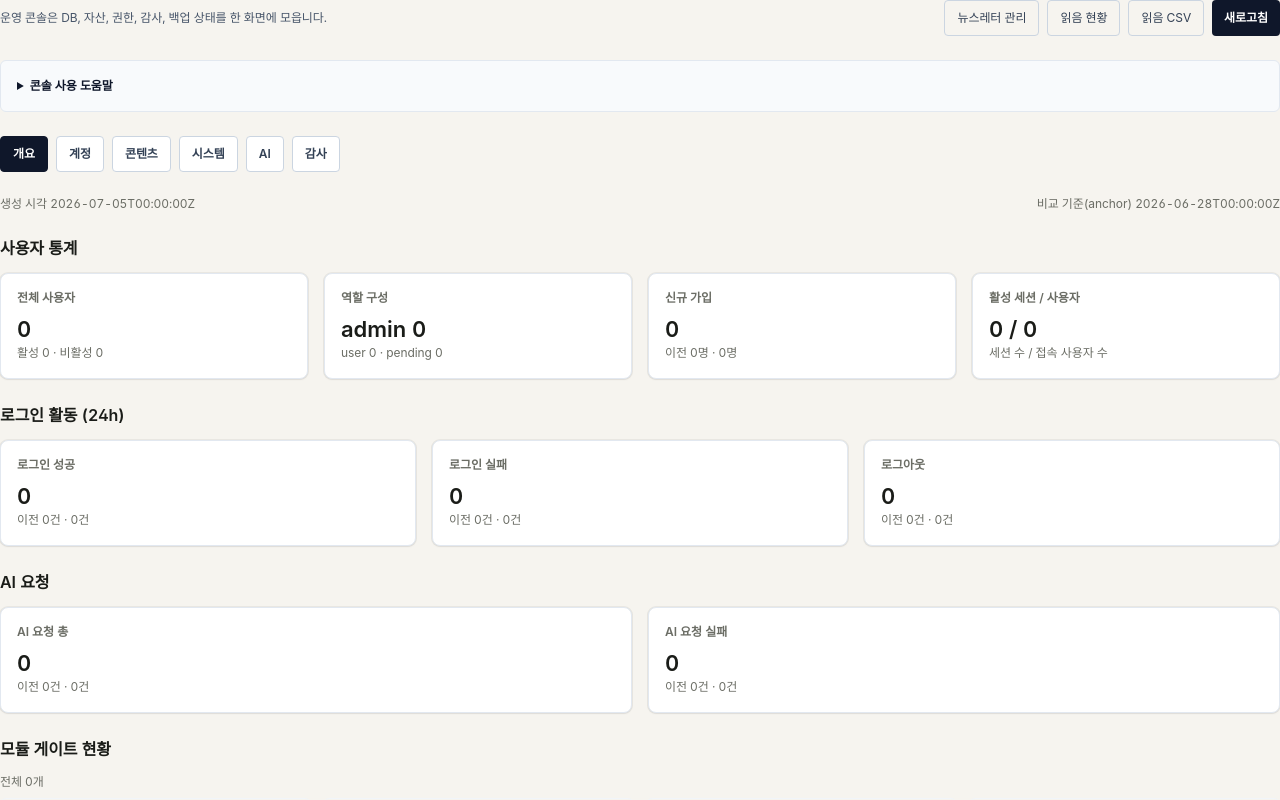
it: 세션 tab paginates login events and search resets back to page 1
The width and height of the screenshot is (1280, 800).
Click the tab "계정" at (80, 154), box [56,136,104,172]
(page scrolled)
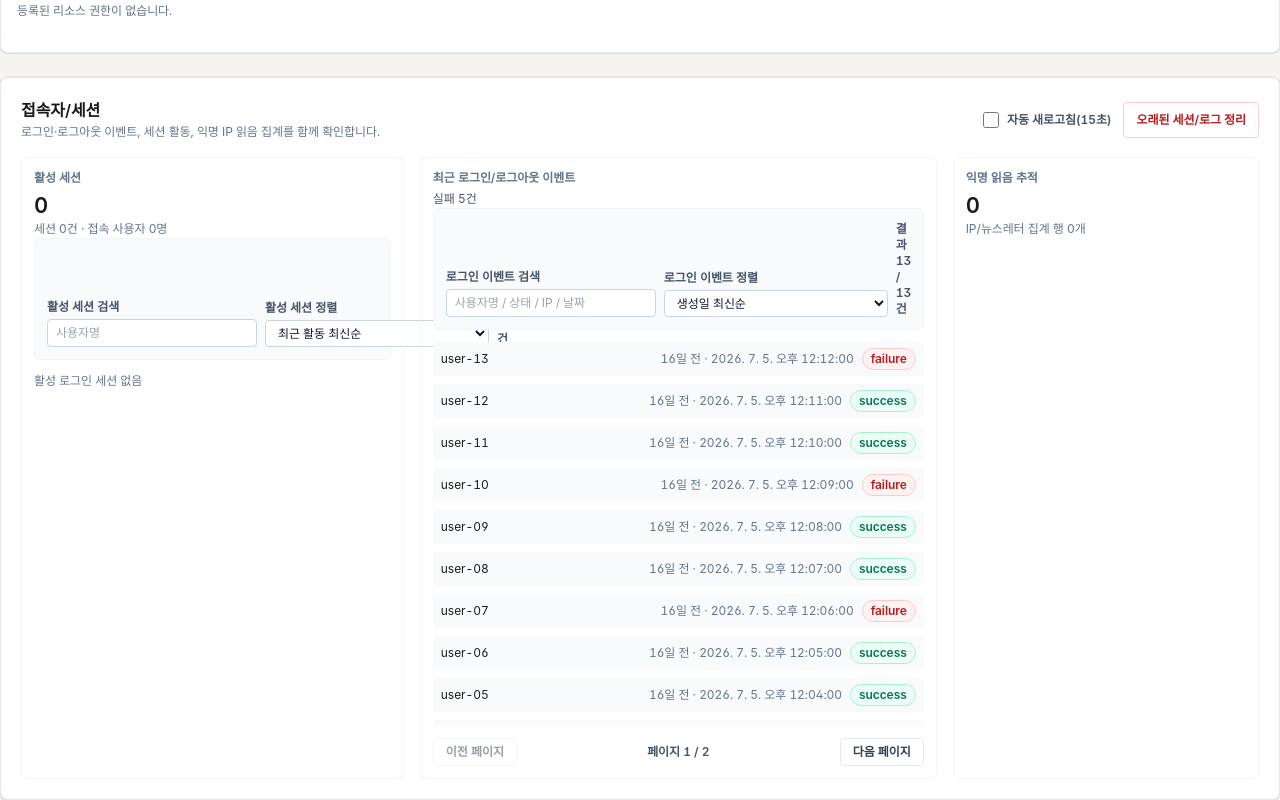
Expected: the heading "접속자/세션" is shown, [21,100,100,120]
Expected: the text "페이지 1 / 2" is shown, [647,744,709,760]
Expected: the text "user-13" is shown, [441,351,489,366]
Click the button "다음 페이지" at (882, 752), box [840,738,924,766]
(page scrolled)
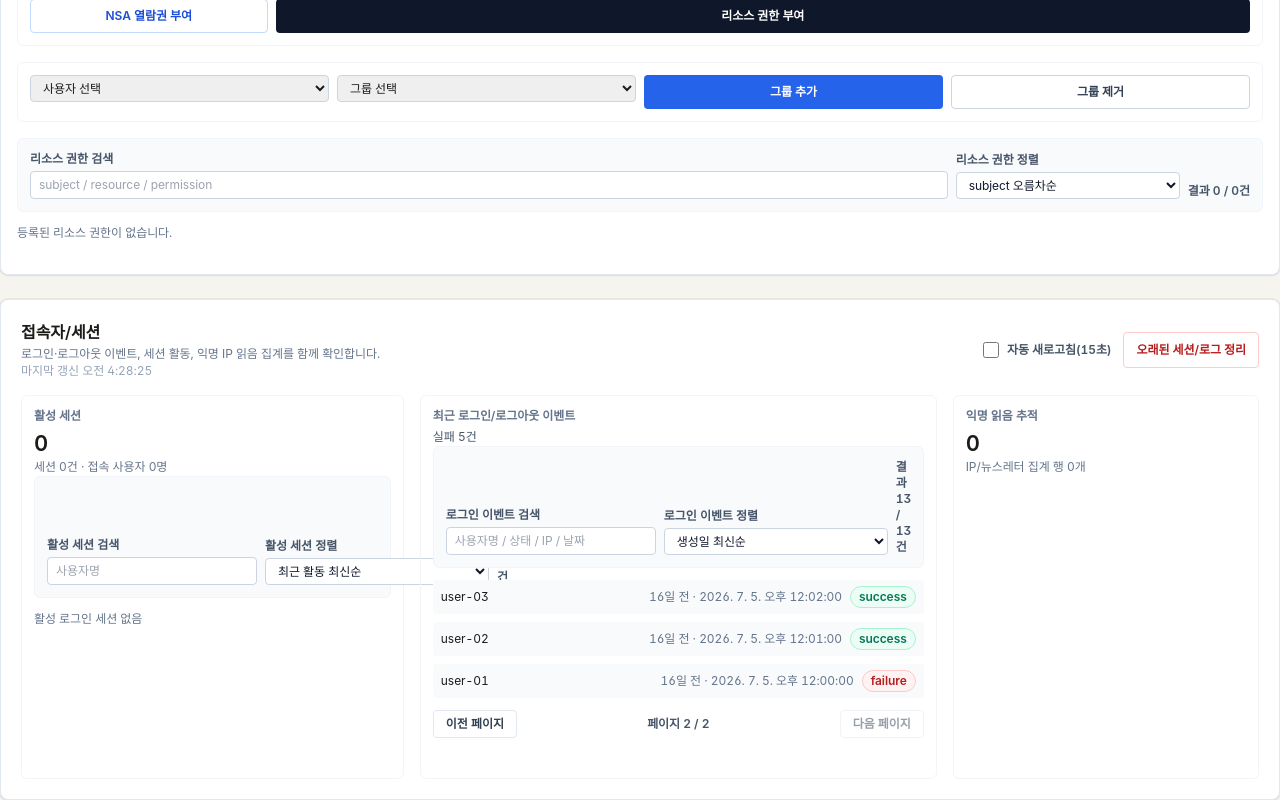
Expected: the text "페이지 2 / 2" is shown, [647,716,709,732]
Expected: the text "user-13" is gone
Expected: the text "user-03" is shown, [441,589,489,604]
Type "user-13" into the search field labelled "로그인 이벤트 검색" at (551, 541), box [446,527,656,555]
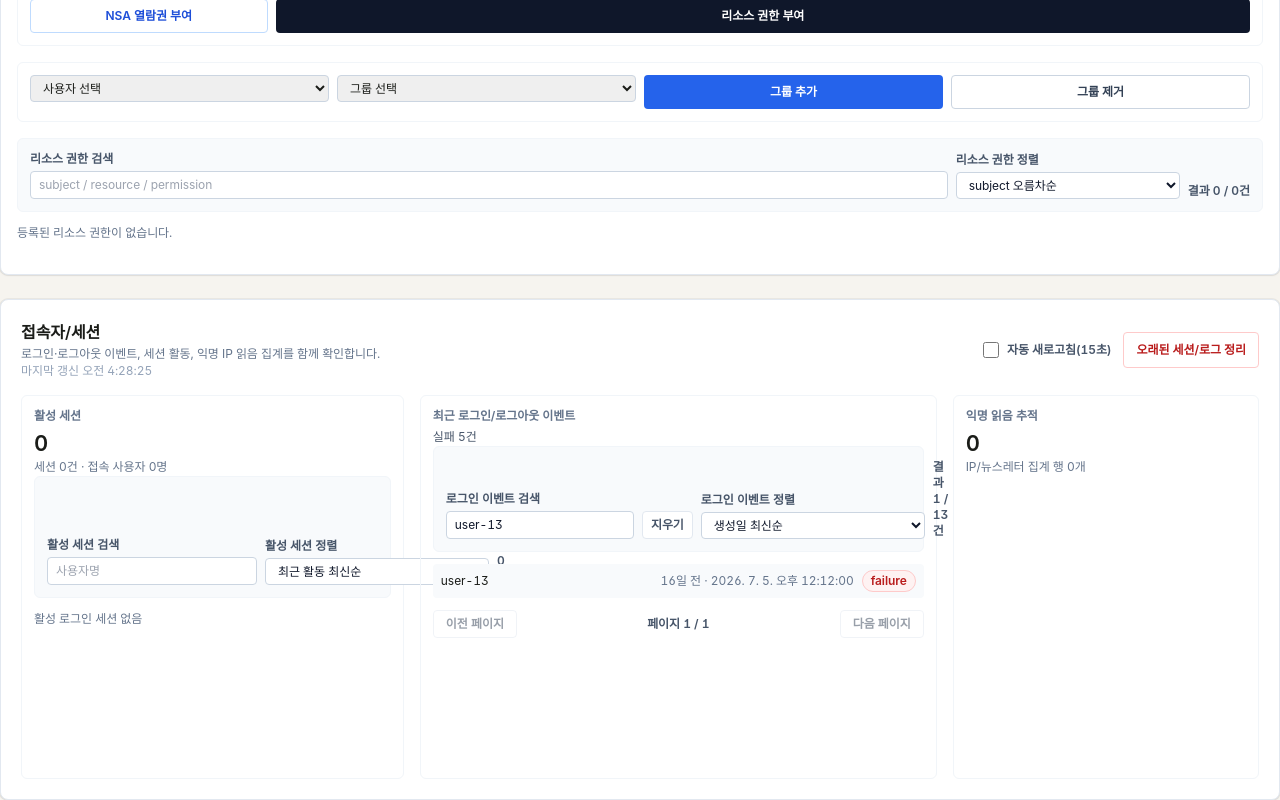
Expected: the text "페이지 1 / 1" is shown, [647,616,709,632]
Expected: the text "user-13" is shown, [441,573,489,588]
Expected: the button "이전 페이지" is disabled, [433,610,517,638]
